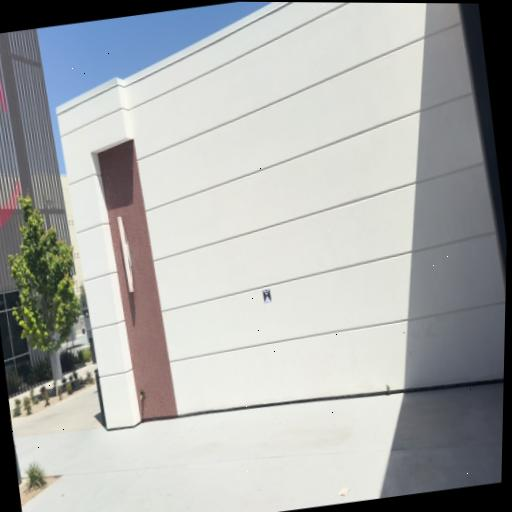target0: (262, 287, 272, 304)
